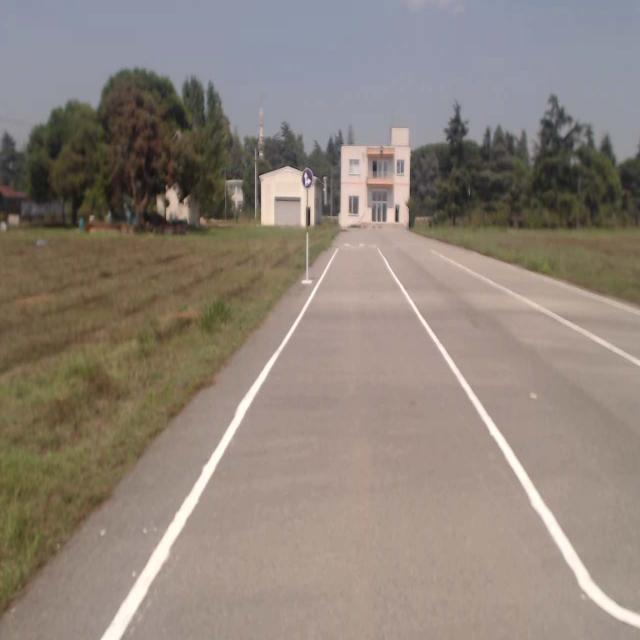ilerisag: (302, 168, 312, 188)
